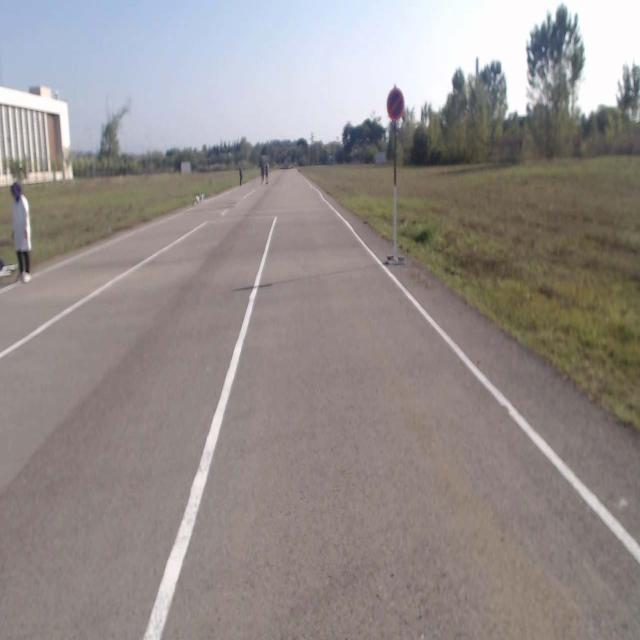parkyasak: (387, 87, 404, 120)
